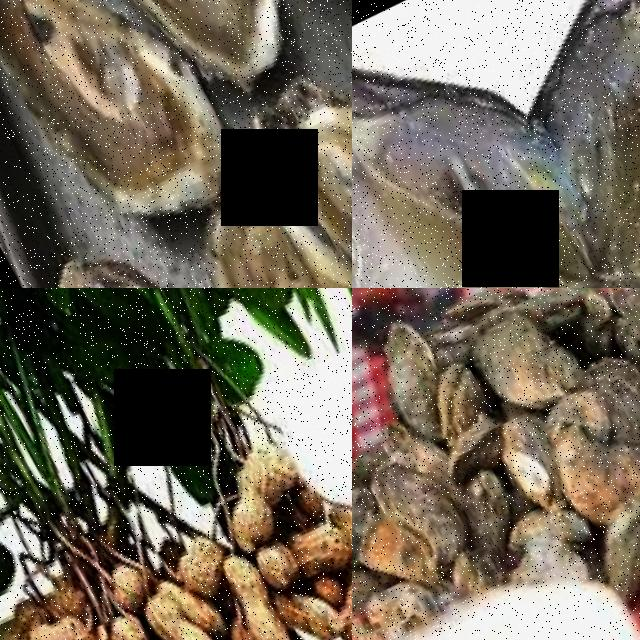oysters: (352, 47, 640, 288), (0, 0, 228, 255), (250, 10, 352, 288), (162, 147, 352, 288), (88, 0, 318, 106), (31, 211, 326, 288)
peanuts: (213, 538, 309, 640), (223, 420, 310, 509), (167, 519, 234, 594), (152, 590, 231, 640), (21, 599, 105, 640), (325, 558, 352, 640)
